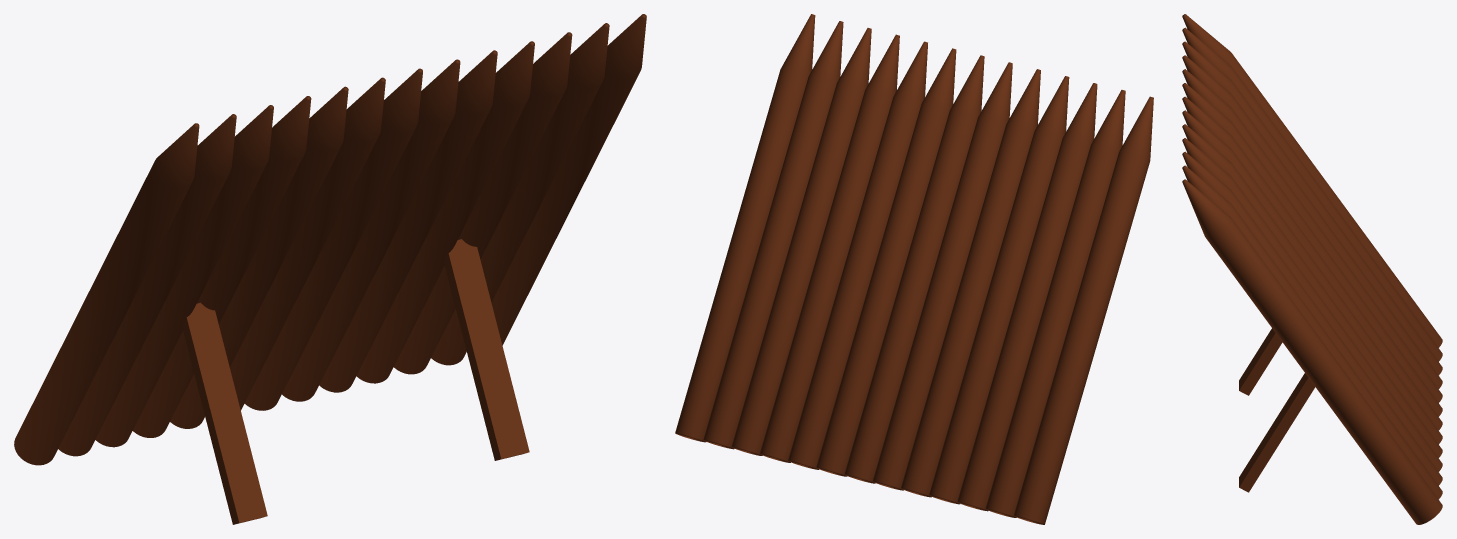
Rendered from Barrier.fbx.
The picture shows the model from 3 angles, left to right: view 1: azimuth 30°, elevation 25°; view 2: azimuth 150°, elevation 25°; view 3: azimuth 270°, elevation 25°; orthographic projection. The views are drawn at different scales.
Visible parts, largest first — view 1: Cylinder.037, Cube.123; view 2: Cylinder.037; view 3: Cylinder.037, Cube.123.
Boxes of the visible parts, x1,y1,x2,y2 form: Cylinder.037: [14, 14, 646, 465]; Cube.123: [182, 239, 529, 524]; Cylinder.037: [675, 14, 1153, 524]; Cylinder.037: [1182, 14, 1442, 524]; Cube.123: [1239, 328, 1315, 492].
Size of the model in its own units: 427 by 381 by 263.
